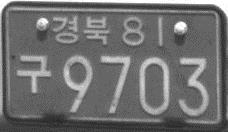0: (138, 57, 172, 117)
1: (154, 14, 168, 46)
3: (176, 56, 210, 119)
7: (98, 54, 133, 115)
8: (120, 15, 144, 48)
9: (61, 54, 94, 115)
경북_O: (50, 14, 110, 46)
구: (14, 52, 53, 94)
